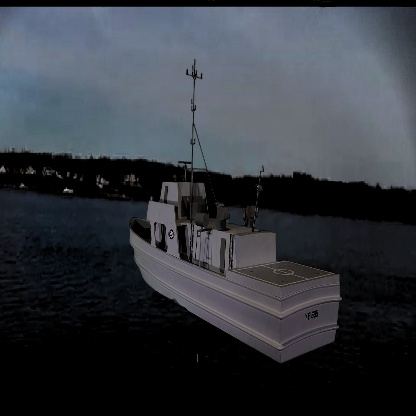YP689: (128, 62, 342, 366)
